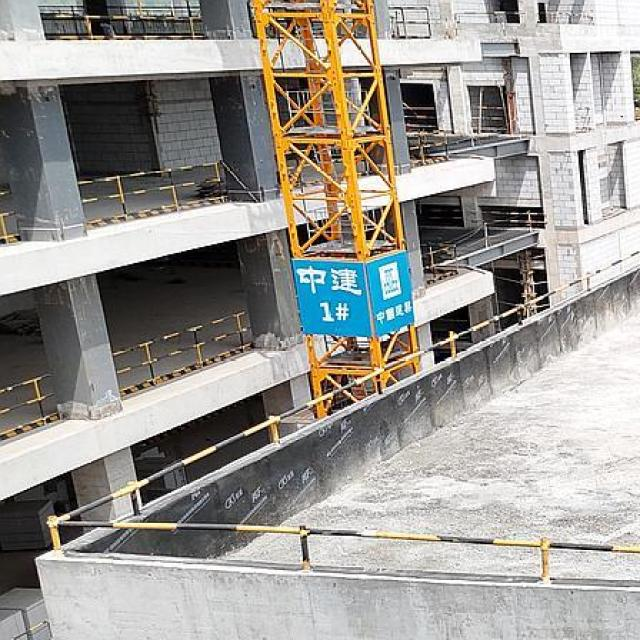edge_guardrail: (44, 249, 640, 612), (112, 309, 252, 395), (78, 160, 226, 226), (42, 15, 207, 41), (0, 373, 57, 436), (285, 142, 375, 172), (454, 11, 525, 36), (406, 128, 450, 165), (106, 0, 201, 17), (388, 6, 432, 40), (481, 210, 546, 229), (0, 189, 21, 244), (13, 614, 53, 640), (472, 105, 509, 131), (402, 106, 437, 128), (421, 209, 462, 220), (39, 4, 84, 14)
